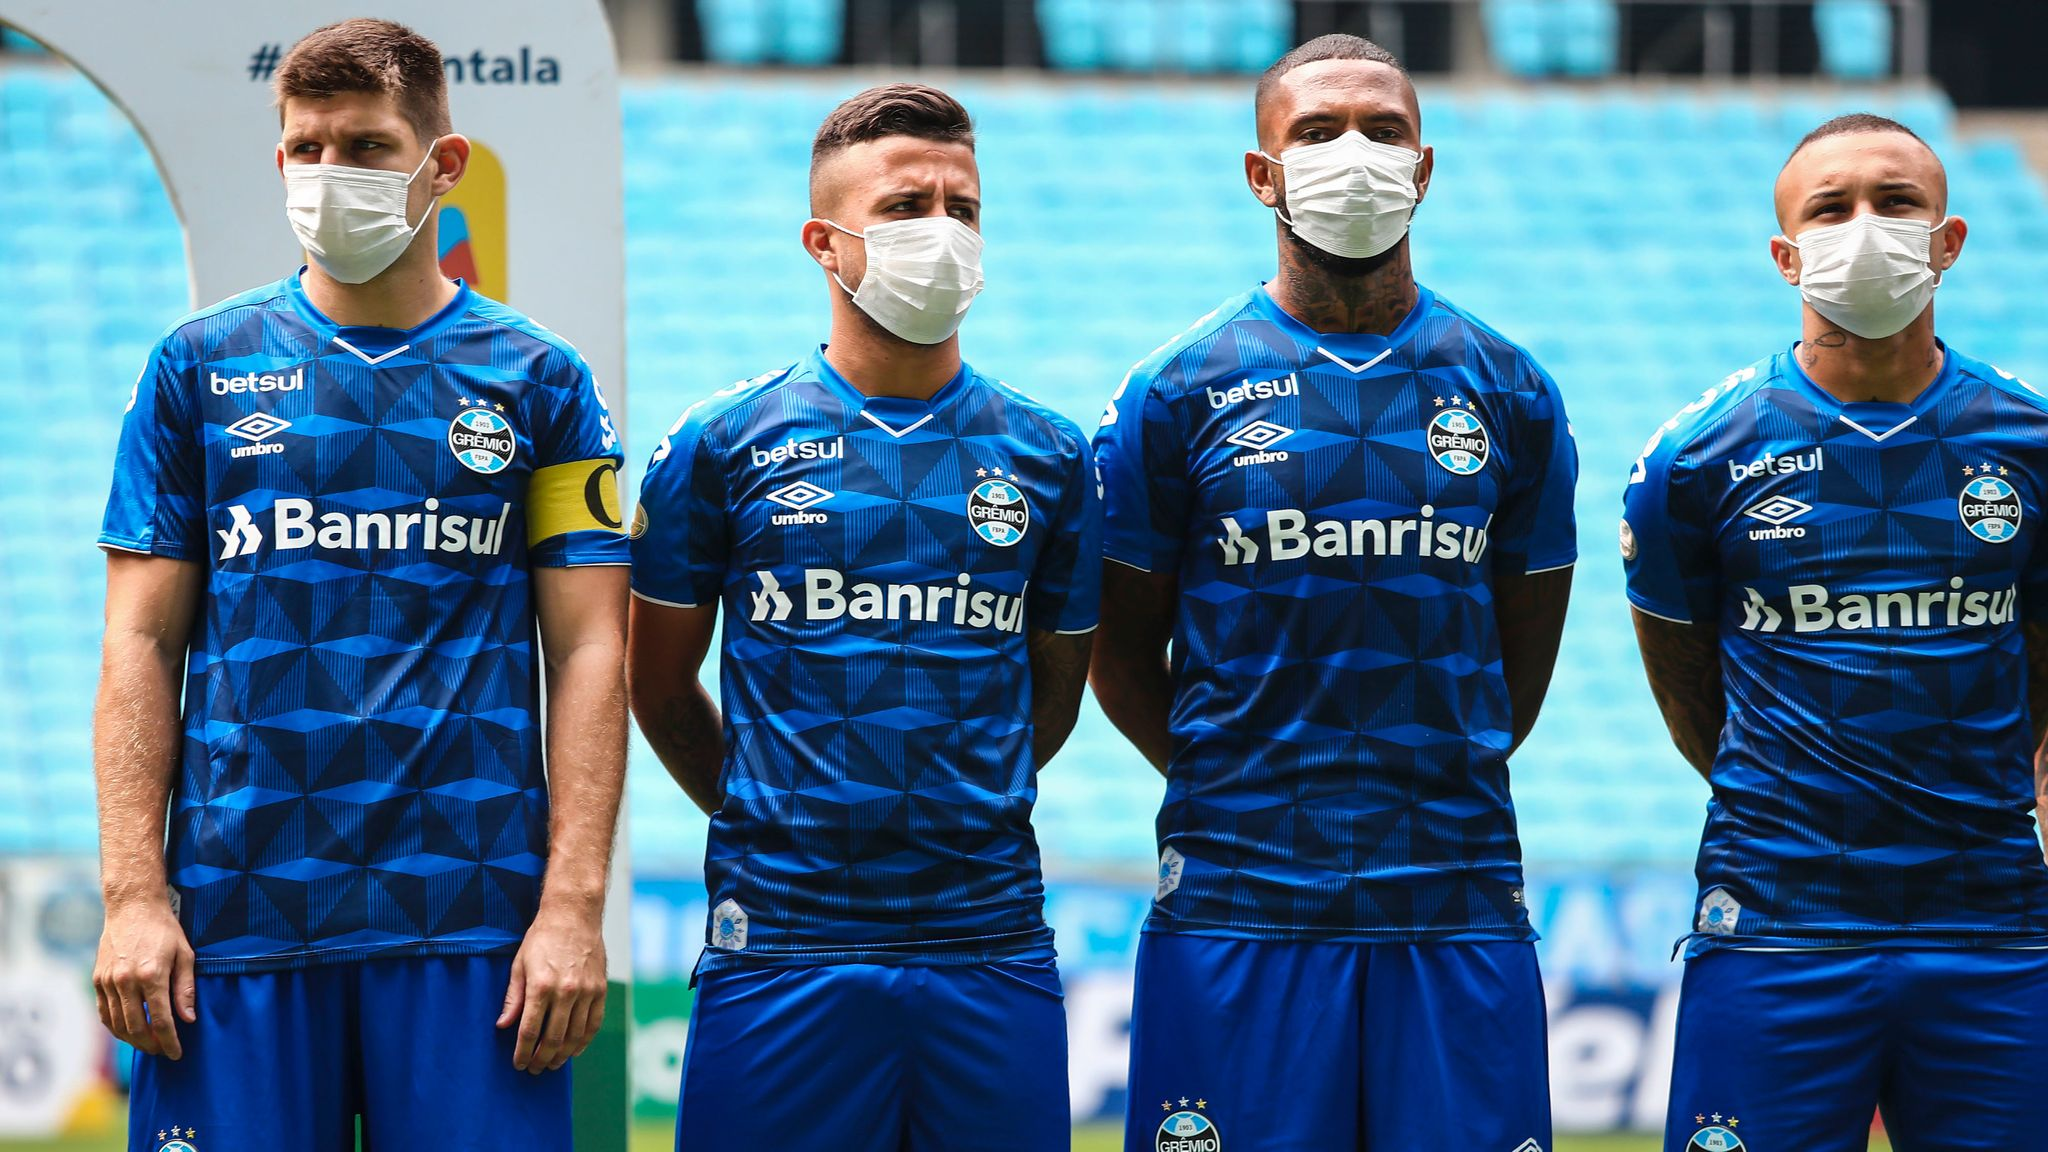with_mask: (837, 129, 975, 350), (1260, 87, 1422, 264), (274, 84, 409, 282), (1778, 167, 1923, 306)
